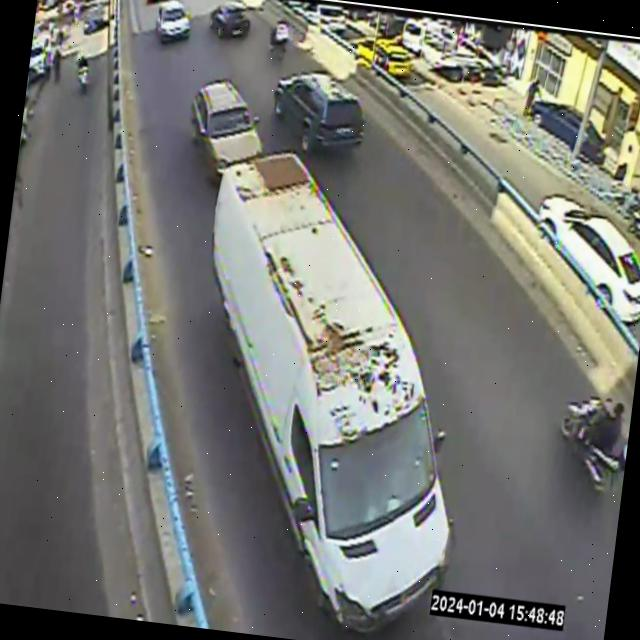car: (211, 151, 451, 631), (537, 194, 640, 322), (190, 79, 261, 181), (274, 71, 363, 150), (155, 0, 189, 42), (209, 1, 249, 36)
